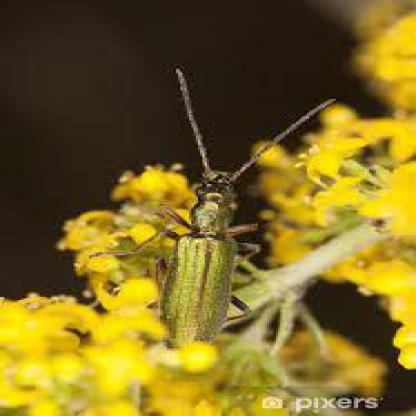blister beetle: (141, 74, 329, 355)
